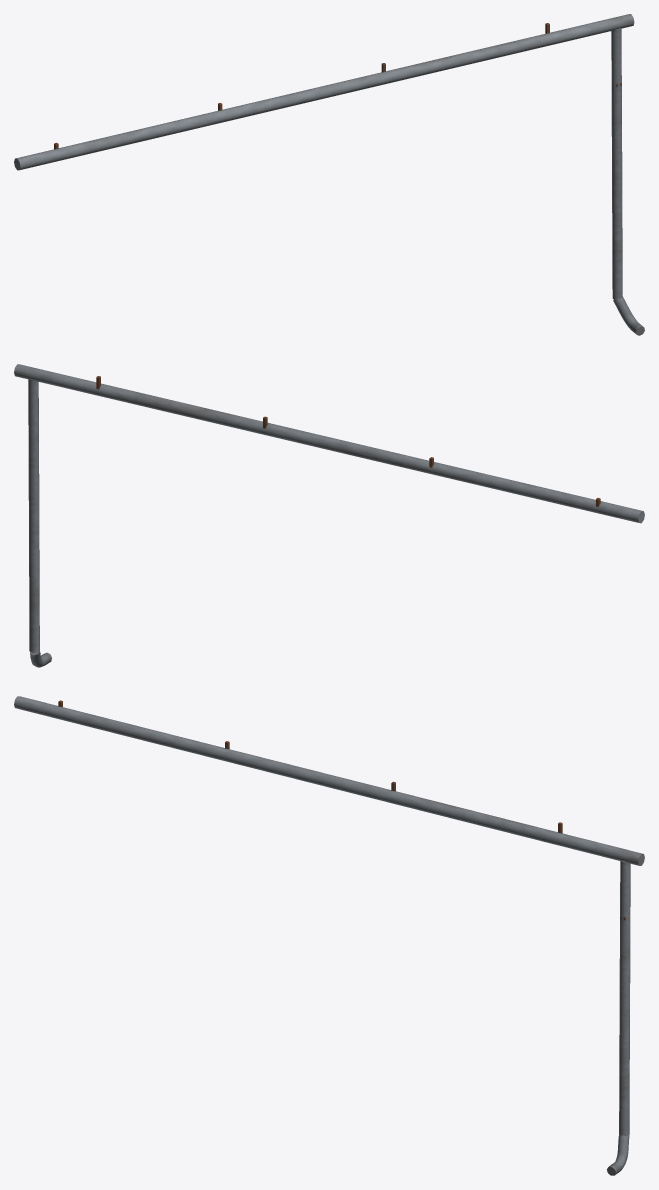
File: gar_rynna.glb
3 views of the same model, one above another, from view 1: azimuth 30°, elevation 25°; view 2: azimuth 150°, elevation 25°; view 3: azimuth 330°, elevation 25° (orthographic).
Parts seen in each view (by area): view 1: Rynna; view 2: Rynna; view 3: Rynna.
Part boxes in pixels (x1,y1,x2,y2): Rynna: [14, 14, 644, 335]; Rynna: [14, 364, 644, 667]; Rynna: [14, 696, 644, 1175].
Size of the model in its own units: 6 by 2.93 by 0.3909.
Materials: 1 (1 with a texture image).
